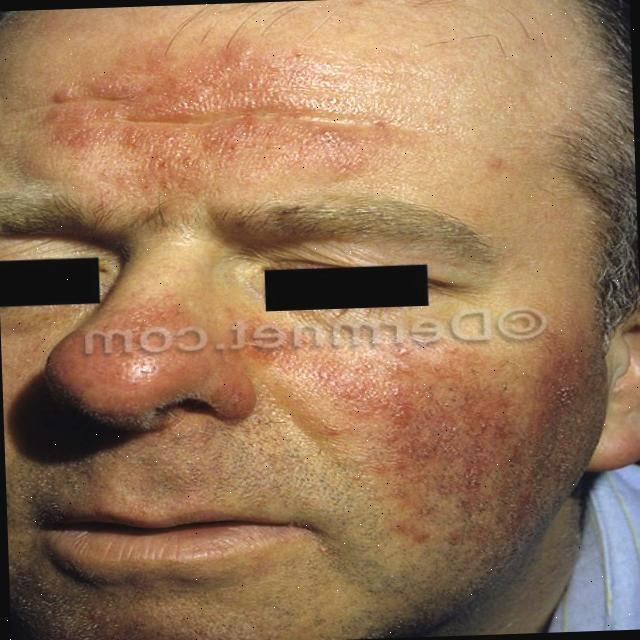skinredness: (347, 312, 611, 581), (0, 44, 409, 185)
